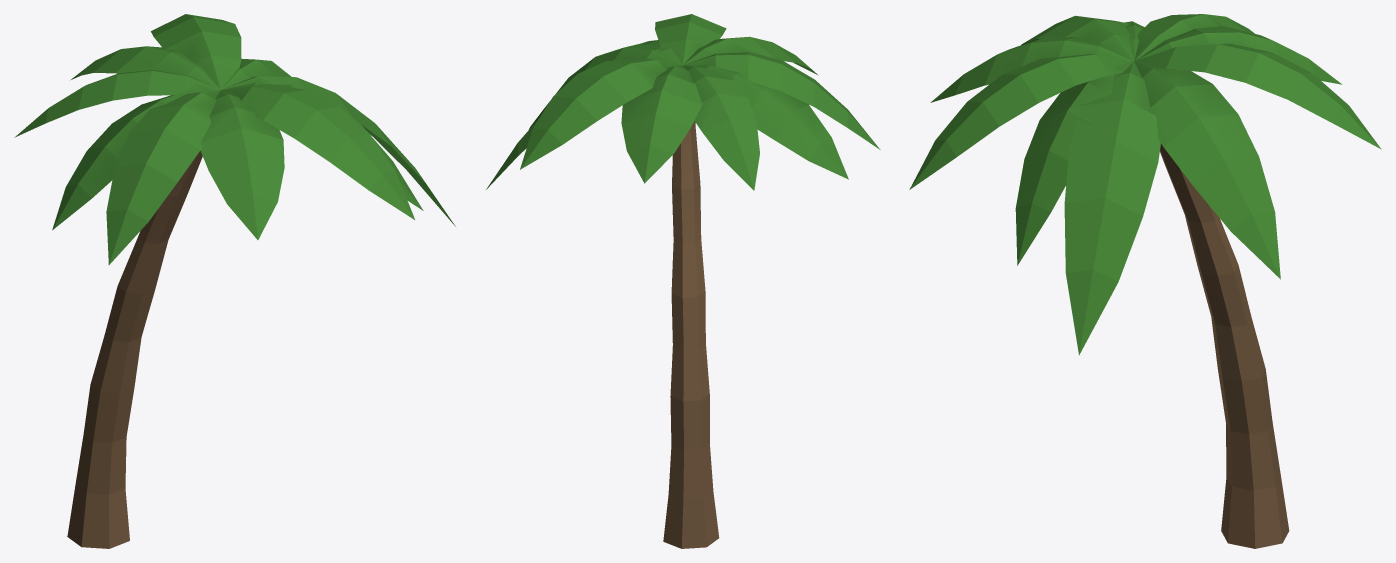
File: Palm3.fbx
3 views of the same model, side by side, from view 1: azimuth 30°, elevation 25°; view 2: azimuth 150°, elevation 25°; view 3: azimuth 270°, elevation 25° (orthographic). The views are drawn at different scales.
Visible parts, largest first — view 1: Palm3; view 2: Palm3; view 3: Palm3.
Part boxes in pixels (bbox=[...]): Palm3: bbox=[14, 14, 455, 548]; Palm3: bbox=[486, 14, 880, 548]; Palm3: bbox=[909, 14, 1381, 548].
Bounding box in the file's own units: 6.34 × 7.75 × 6.21.
